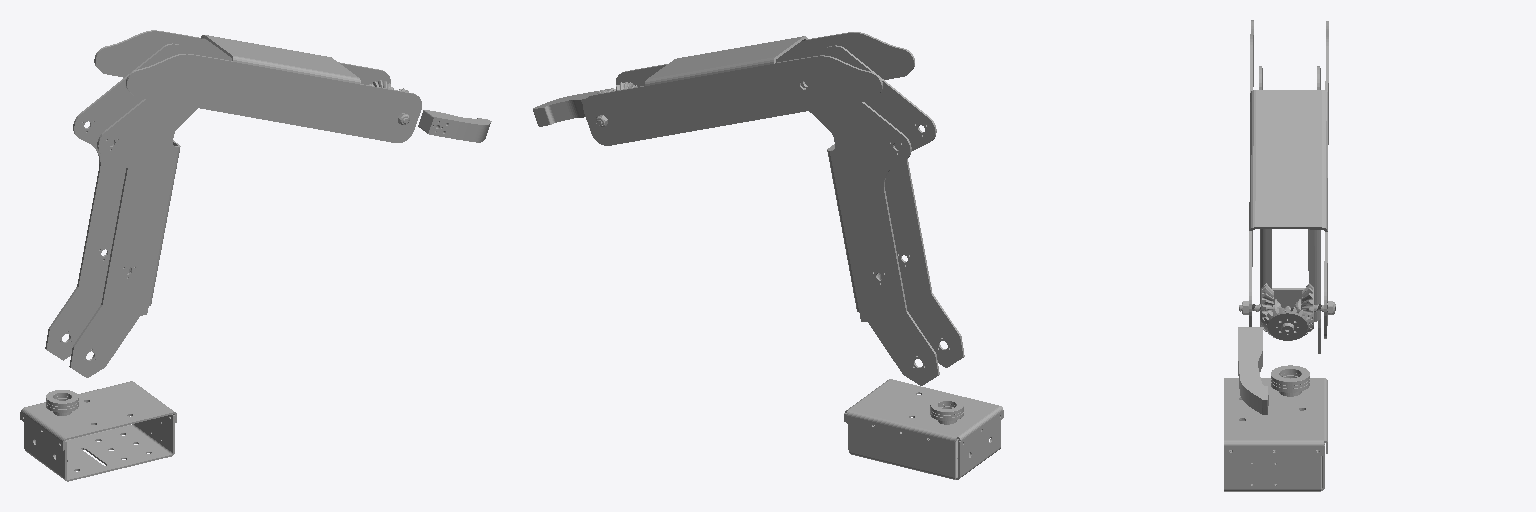
URDF robot description (Arm):
<?xml version="1.0" ?>
<!-- =================================================================================== -->
<!-- |    This document was autogenerated by xacro from Arm.urdf.xacro                 | -->
<!-- |    EDITING THIS FILE BY HAND IS NOT RECOMMENDED                                 | -->
<!-- =================================================================================== -->
<robot name="Arm">
  <material name="silver">
    <color rgba="0.700 0.700 0.700 1.000"/>
  </material>
  <transmission name="Revolute 3_tran">
    <type>transmission_interface/SimpleTransmission</type>
    <joint name="Revolute 3">
      <hardwareInterface>hardware_interface/EffortJointInterface</hardwareInterface>
    </joint>
    <actuator name="Revolute 3_actr">
      <hardwareInterface>hardware_interface/EffortJointInterface</hardwareInterface>
      <mechanicalReduction>1</mechanicalReduction>
    </actuator>
  </transmission>
  <transmission name="Slider 10_tran">
    <type>transmission_interface/SimpleTransmission</type>
    <joint name="Slider 10">
      <hardwareInterface>hardware_interface/EffortJointInterface</hardwareInterface>
    </joint>
    <actuator name="Slider 10_actr">
      <hardwareInterface>hardware_interface/EffortJointInterface</hardwareInterface>
      <mechanicalReduction>1</mechanicalReduction>
    </actuator>
  </transmission>
  <transmission name="Revolute 11_tran">
    <type>transmission_interface/SimpleTransmission</type>
    <joint name="Revolute 11">
      <hardwareInterface>hardware_interface/EffortJointInterface</hardwareInterface>
    </joint>
    <actuator name="Revolute 11_actr">
      <hardwareInterface>hardware_interface/EffortJointInterface</hardwareInterface>
      <mechanicalReduction>1</mechanicalReduction>
    </actuator>
  </transmission>
  <transmission name="Revolute 12_tran">
    <type>transmission_interface/SimpleTransmission</type>
    <joint name="Revolute 12">
      <hardwareInterface>hardware_interface/EffortJointInterface</hardwareInterface>
    </joint>
    <actuator name="Revolute 12_actr">
      <hardwareInterface>hardware_interface/EffortJointInterface</hardwareInterface>
      <mechanicalReduction>1</mechanicalReduction>
    </actuator>
  </transmission>
  <transmission name="Revolute 13_tran">
    <type>transmission_interface/SimpleTransmission</type>
    <joint name="Revolute 13">
      <hardwareInterface>hardware_interface/EffortJointInterface</hardwareInterface>
    </joint>
    <actuator name="Revolute 13_actr">
      <hardwareInterface>hardware_interface/EffortJointInterface</hardwareInterface>
      <mechanicalReduction>1</mechanicalReduction>
    </actuator>
  </transmission>
  <gazebo>
    <plugin filename="libgazebo_ros_control.so" name="control"/>
  </gazebo>
  <gazebo reference="base_link">
    <material>Gazebo/Silver</material>
    <mu1>0.2</mu1>
    <mu2>0.2</mu2>
    <selfCollide>true</selfCollide>
    <gravity>true</gravity>
  </gazebo>
  <gazebo reference="SAR_base_v5_1_1">
    <material>Gazebo/Silver</material>
    <mu1>0.2</mu1>
    <mu2>0.2</mu2>
    <selfCollide>true</selfCollide>
  </gazebo>
  <gazebo reference="7806K757_Thrust_Ball_Bearing_1_1">
    <material>Gazebo/Silver</material>
    <mu1>0.2</mu1>
    <mu2>0.2</mu2>
    <selfCollide>true</selfCollide>
  </gazebo>
  <gazebo reference="Movable_Claw_1_1">
    <material>Gazebo/Silver</material>
    <mu1>0.2</mu1>
    <mu2>0.2</mu2>
    <selfCollide>true</selfCollide>
  </gazebo>
  <gazebo reference="Iteration_1_v5_1_1">
    <material>Gazebo/Silver</material>
    <mu1>0.2</mu1>
    <mu2>0.2</mu2>
    <selfCollide>true</selfCollide>
  </gazebo>
  <gazebo reference="upperlink-updated_v4_1_1">
    <material>Gazebo/Silver</material>
    <mu1>0.2</mu1>
    <mu2>0.2</mu2>
    <selfCollide>true</selfCollide>
  </gazebo>
  <gazebo reference="lower_link_v39_1_1">
    <material>Gazebo/Silver</material>
    <mu1>0.2</mu1>
    <mu2>0.2</mu2>
    <selfCollide>true</selfCollide>
  </gazebo>
  <link name="base_link">
    <inertial>
      <origin rpy="0 0 0" xyz="0.05863104008803087 0.05615253071623694 -0.006755654576515199"/>
      <mass value="4.158186560469331"/>
      <inertia ixx="0.011476" ixy="3.8e-05" ixz="0.000125" iyy="0.024475" iyz="-0.000517" izz="0.028778"/>
    </inertial>
    <visual>
      <origin rpy="0 0 0" xyz="0 0 0"/>
      <geometry>
        <mesh filename="package://arm_description/meshes/base_link.stl" scale="0.001 0.001 0.001"/>
      </geometry>
      <material name="silver"/>
    </visual>
    <collision>
      <origin rpy="0 0 0" xyz="0 0 0"/>
      <geometry>
        <mesh filename="package://arm_description/meshes/base_link.stl" scale="0.001 0.001 0.001"/>
      </geometry>
    </collision>
  </link>
  <link name="SAR_base_v5_1_1">
    <inertial>
      <origin rpy="0 0 0" xyz="0.0032848504549910585 -0.0006395607193454139 0.054820590042331786"/>
      <mass value="1.2307761265001584"/>
      <inertia ixx="0.002811" ixy="-1e-06" ixz="-0.00014" iyy="0.002488" iyz="-2e-06" izz="0.003094"/>
    </inertial>
    <visual>
      <origin rpy="0 0 0" xyz="-0.00392 -0.065323 -0.046301"/>
      <geometry>
        <mesh filename="package://arm_description/meshes/SAR_base_v5_1_1.stl" scale="0.001 0.001 0.001"/>
      </geometry>
      <material name="silver"/>
    </visual>
    <collision>
      <origin rpy="0 0 0" xyz="-0.00392 -0.065323 -0.046301"/>
      <geometry>
        <mesh filename="package://arm_description/meshes/SAR_base_v5_1_1.stl" scale="0.001 0.001 0.001"/>
      </geometry>
    </collision>
  </link>
  <link name="7806K757_Thrust_Ball_Bearing_1_1">
    <inertial>
      <origin rpy="0 0 0" xyz="0.0010133938642193077 -0.000780780546192697 0.03812329599421187"/>
      <mass value="0.1611844314733173"/>
      <inertia ixx="4e-05" ixy="0.0" ixz="0.0" iyy="4e-05" iyz="-0.0" izz="7.3e-05"/>
    </inertial>
    <visual>
      <origin rpy="0 0 0" xyz="-0.00392 -0.065323 -0.018461"/>
      <geometry>
        <mesh filename="package://arm_description/meshes/7806K757_Thrust_Ball_Bearing_1_1.stl" scale="0.001 0.001 0.001"/>
      </geometry>
      <material name="silver"/>
    </visual>
    <collision>
      <origin rpy="0 0 0" xyz="-0.00392 -0.065323 -0.018461"/>
      <geometry>
        <mesh filename="package://arm_description/meshes/7806K757_Thrust_Ball_Bearing_1_1.stl" scale="0.001 0.001 0.001"/>
      </geometry>
    </collision>
  </link>
  <link name="Movable_Claw_1_1">
    <inertial>
      <origin rpy="0 0 0" xyz="0.03388991238375427 -0.01535562708110632 -0.006096587274510845"/>
      <mass value="0.8451631580038678"/>
      <inertia ixx="0.000295" ixy="-7.9e-05" ixz="0.000375" iyy="0.001215" iyz="3.2e-05" izz="0.001079"/>
    </inertial>
    <visual>
      <origin rpy="0 0 0" xyz="-0.662651 -0.02824 -0.400362"/>
      <geometry>
        <mesh filename="package://arm_description/meshes/Movable_Claw_1_1.stl" scale="0.001 0.001 0.001"/>
      </geometry>
      <material name="silver"/>
    </visual>
    <collision>
      <origin rpy="0 0 0" xyz="-0.662651 -0.02824 -0.400362"/>
      <geometry>
        <mesh filename="package://arm_description/meshes/Movable_Claw_1_1.stl" scale="0.001 0.001 0.001"/>
      </geometry>
    </collision>
  </link>
  <link name="Iteration_1_v5_1_1">
    <inertial>
      <origin rpy="0 0 0" xyz="0.04282769790372598 0.02491078728896462 -0.017160211944140247"/>
      <mass value="2.3017928452014056"/>
      <inertia ixx="0.015723" ixy="-0.001325" ixz="0.00084" iyy="0.002985" iyz="0.000506" izz="0.017484"/>
    </inertial>
    <visual>
      <origin rpy="0 0 0" xyz="-0.625809 -0.061331 -0.422763"/>
      <geometry>
        <mesh filename="package://arm_description/meshes/Iteration_1_v5_1_1.stl" scale="0.001 0.001 0.001"/>
      </geometry>
      <material name="silver"/>
    </visual>
    <collision>
      <origin rpy="0 0 0" xyz="-0.625809 -0.061331 -0.422763"/>
      <geometry>
        <mesh filename="package://arm_description/meshes/Iteration_1_v5_1_1.stl" scale="0.001 0.001 0.001"/>
      </geometry>
    </collision>
  </link>
  <link name="upperlink-updated_v4_1_1">
    <inertial>
      <origin rpy="0 0 0" xyz="0.2908732258181451 -0.04359455738158811 -0.1129536992000853"/>
      <mass value="1.2596257489986145"/>
      <inertia ixx="0.006044" ixy="0.000117" ixz="0.00924" iyy="0.02669" iyz="-5.3e-05" izz="0.023747"/>
    </inertial>
    <visual>
      <origin rpy="0 0 0" xyz="-0.232749 -0.105134 -0.580592"/>
      <geometry>
        <mesh filename="package://arm_description/meshes/upperlink-updated_v4_1_1.stl" scale="0.001 0.001 0.001"/>
      </geometry>
      <material name="silver"/>
    </visual>
    <collision>
      <origin rpy="0 0 0" xyz="-0.232749 -0.105134 -0.580592"/>
      <geometry>
        <mesh filename="package://arm_description/meshes/upperlink-updated_v4_1_1.stl" scale="0.001 0.001 0.001"/>
      </geometry>
    </collision>
  </link>
  <link name="lower_link_v39_1_1">
    <inertial>
      <origin rpy="0 0 0" xyz="0.09620535785687437 -0.051426121928776394 0.24687135655885625"/>
      <mass value="3.5085367595940884"/>
      <inertia ixx="0.069657" ixy="2.6e-05" ixz="-0.015569" iyy="0.073832" iyz="5e-05" izz="0.013911"/>
    </inertial>
    <visual>
      <origin rpy="0 0 0" xyz="-0.03273 -0.115646 -0.126985"/>
      <geometry>
        <mesh filename="package://arm_description/meshes/lower_link_v39_1_1.stl" scale="0.001 0.001 0.001"/>
      </geometry>
      <material name="silver"/>
    </visual>
    <collision>
      <origin rpy="0 0 0" xyz="-0.03273 -0.115646 -0.126985"/>
      <geometry>
        <mesh filename="package://arm_description/meshes/lower_link_v39_1_1.stl" scale="0.001 0.001 0.001"/>
      </geometry>
    </collision>
  </link>
  <link name="dummy_link">
    <!-- No geometry, mass, or inertia -->
  </link>
  <joint name="Rigid 2" type="fixed">
    <origin rpy="0 0 0" xyz="0.0 0.0 0.02784"/>
    <parent link="7806K757_Thrust_Ball_Bearing_1_1"/>
    <child link="SAR_base_v5_1_1"/>
  </joint>
  <joint name="Revolute 3" type="continuous">
    <origin rpy="0 0 0" xyz="0.00392 0.065323 0.018461"/>
    <parent link="base_link"/>
    <child link="7806K757_Thrust_Ball_Bearing_1_1"/>
    <axis xyz="0.0 -0.0 1.0"/>
  </joint>
  <joint name="Slider 10" type="prismatic">
    <origin rpy="0 0 0" xyz="0.036842 -0.033091 -0.022401"/>
    <parent link="Iteration_1_v5_1_1"/>
    <child link="Movable_Claw_1_1"/>
    <axis xyz="-0.00436 -0.99999 -0.0"/>
    <limit effort="100" lower="-0.06" upper="0.045" velocity="100"/>
  </joint>
  <joint name="Revolute 11" type="continuous">
    <origin rpy="0 0 0" xyz="0.39306 -0.043803 -0.157829"/>
    <parent link="upperlink-updated_v4_1_1"/>
    <child link="Iteration_1_v5_1_1"/>
    <axis xyz="0.927924 -0.004046 -0.372747"/>
  </joint>
  <joint name="Revolute 12" type="revolute">
    <origin rpy="0 0 0" xyz="0.200019 -0.010512 0.453607"/>
    <parent link="lower_link_v39_1_1"/>
    <child link="upperlink-updated_v4_1_1"/>
    <axis xyz="-0.00436 -0.99999 -0.0"/>
    <limit effort="100" lower="-0.872665" upper="0.174533" velocity="100"/>
  </joint>
  <joint name="Revolute 13" type="revolute">
    <origin rpy="0 0 0" xyz="0.02881 0.050323 0.080684"/>
    <parent link="SAR_base_v5_1_1"/>
    <child link="lower_link_v39_1_1"/>
    <axis xyz="-0.00436 -0.99999 -0.0"/>
    <limit effort="100" lower="-0.698132" upper="1.047198" velocity="100"/>
  </joint>
  <joint name="dummy_joint" type="fixed">
    <parent link="dummy_link"/>
    <child link="base_link"/>
    <origin rpy="0 0 0" xyz="0 0 0"/>
  </joint>
  <ros2_control name="FakeSystem" type="system">
    <hardware>
      <!-- By default, set up controllers for simulation. This won't work on real hardware -->
      <plugin>mock_components/GenericSystem</plugin>
    </hardware>
    <joint name="Revolute 3">
      <command_interface name="position"/>
      <state_interface name="position">
        <param name="initial_value">0</param>
      </state_interface>
      <state_interface name="velocity"/>
    </joint>
    <joint name="Revolute 13">
      <command_interface name="position"/>
      <state_interface name="position">
        <param name="initial_value">0</param>
      </state_interface>
      <state_interface name="velocity"/>
    </joint>
    <joint name="Revolute 12">
      <command_interface name="position"/>
      <state_interface name="position">
        <param name="initial_value">0</param>
      </state_interface>
      <state_interface name="velocity"/>
    </joint>
    <joint name="Revolute 11">
      <command_interface name="position"/>
      <state_interface name="position">
        <param name="initial_value">0</param>
      </state_interface>
      <state_interface name="velocity"/>
    </joint>
    <joint name="Slider 10">
      <command_interface name="position"/>
      <state_interface name="position">
        <param name="initial_value">0</param>
      </state_interface>
      <state_interface name="velocity"/>
    </joint>
  </ros2_control>
</robot>

--- What the picture shows (computed from the rendered views, not written in the file) ---
3 views of the same robot in one strip: view 1: azimuth 30°, elevation 25°; view 2: azimuth 150°, elevation 25°; view 3: azimuth 270°, elevation 25° (orthographic).
Model Arm with 8 links and 7 joints (2 revolute, 2 continuous, 1 prismatic, 2 fixed), rooted at dummy_link, posed all joints at 0.
Visible links, largest first — view 1: lower_link_v39_1_1, upperlink-updated_v4_1_1, base_link, Movable_Claw_1_1, 7806K757_Thrust_Ball_Bearing_1_1; view 2: lower_link_v39_1_1, upperlink-updated_v4_1_1, base_link, Movable_Claw_1_1, 7806K757_Thrust_Ball_Bearing_1_1; view 3: upperlink-updated_v4_1_1, base_link, lower_link_v39_1_1, Movable_Claw_1_1, 7806K757_Thrust_Ball_Bearing_1_1.
Link boxes in pixels (bbox=[...]): lower_link_v39_1_1: bbox=[45, 43, 197, 377]; upperlink-updated_v4_1_1: bbox=[94, 30, 421, 142]; base_link: bbox=[20, 381, 176, 481]; Movable_Claw_1_1: bbox=[418, 110, 491, 142]; 7806K757_Thrust_Ball_Bearing_1_1: bbox=[46, 390, 78, 412]; lower_link_v39_1_1: bbox=[801, 45, 964, 385]; upperlink-updated_v4_1_1: bbox=[583, 32, 914, 145]; base_link: bbox=[844, 379, 1003, 479]; Movable_Claw_1_1: bbox=[533, 88, 613, 126]; 7806K757_Thrust_Ball_Bearing_1_1: bbox=[930, 398, 963, 420]; upperlink-updated_v4_1_1: bbox=[1239, 20, 1335, 340]; base_link: bbox=[1224, 378, 1327, 491]; lower_link_v39_1_1: bbox=[1259, 66, 1320, 353]; Movable_Claw_1_1: bbox=[1238, 327, 1268, 414]; 7806K757_Thrust_Ball_Bearing_1_1: bbox=[1271, 365, 1309, 392].
Size in the robot's own frame: 0.8124 by 0.1498 by 0.6775 metres.
Meshes: 7 distinct files referenced, 5 mesh visuals loaded (5 binary STL); not drawn: 2 (reference not matched to a file when rendering).